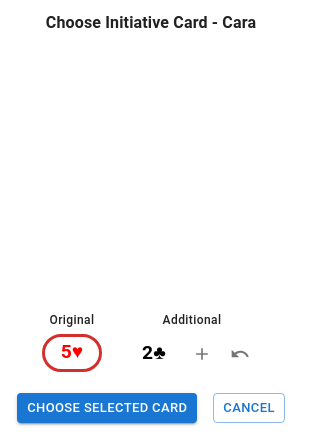
CardChooserModal › draw tooltips never take clicks: Cancel right after hovering '+' discards (real-room bug)
Later steps or results of the test are not shown.
Hover over the button named "Draw additional card" at (202, 354), box [187, 339, 217, 369]
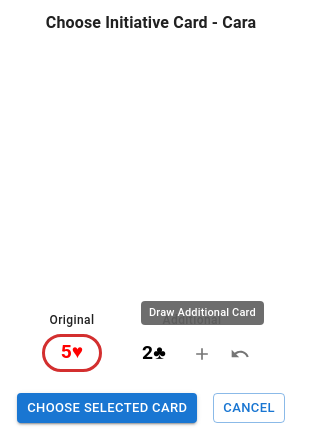
Result: the tooltip reads "Draw Additional Card" at [149, 306, 256, 318]
